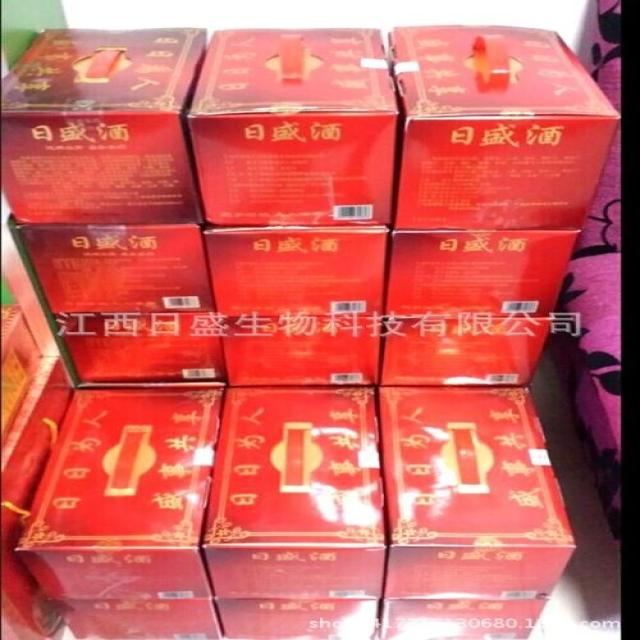box: (387, 22, 620, 231), (185, 27, 401, 227), (20, 386, 219, 602), (376, 388, 577, 601), (0, 28, 207, 225), (203, 386, 390, 601), (9, 222, 215, 316), (385, 229, 576, 320), (210, 226, 386, 319), (48, 315, 224, 389), (219, 317, 382, 388), (380, 320, 550, 388), (56, 598, 224, 639), (381, 599, 547, 639), (216, 599, 381, 639)
